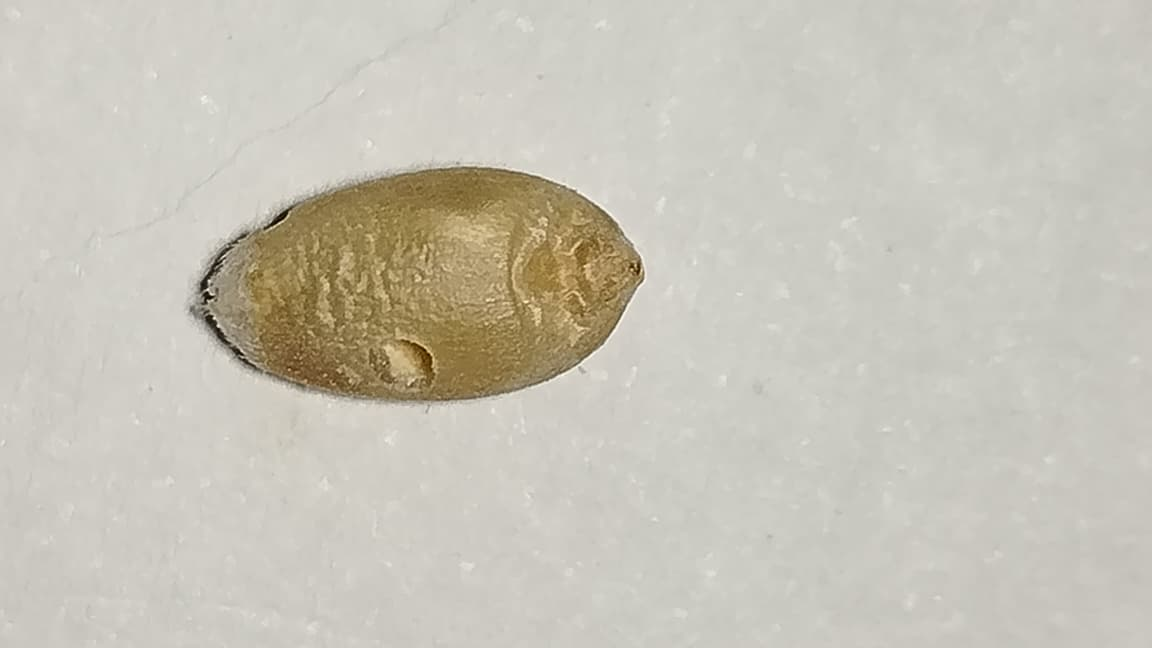damage: (207, 167, 642, 399)
insectdamage: (362, 321, 443, 410)
